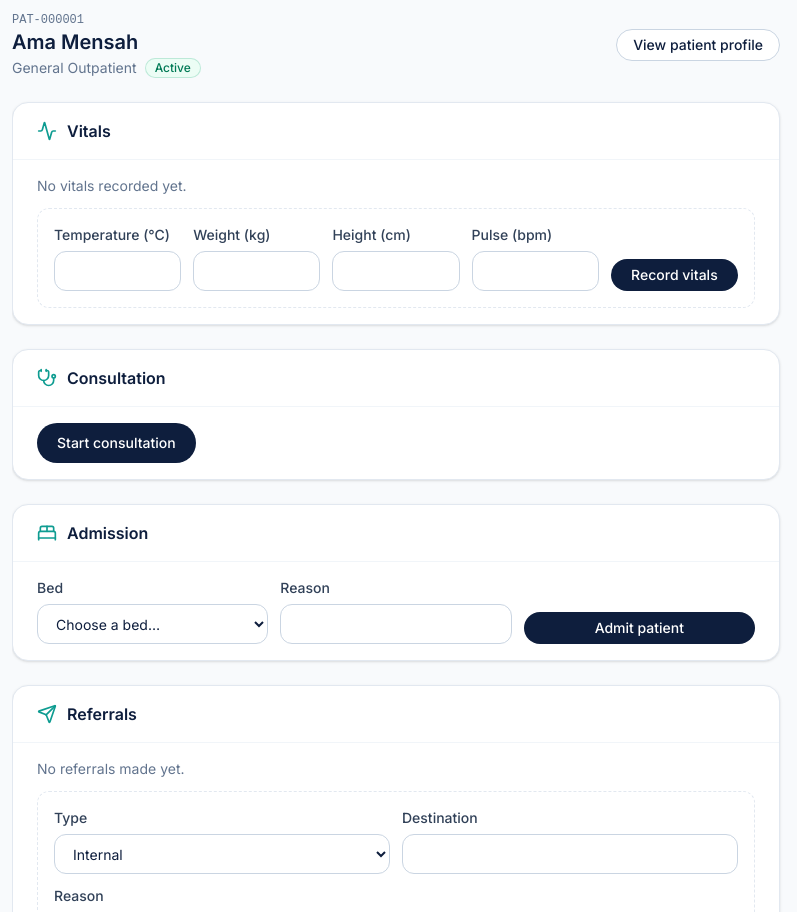
Test case: VisitWorkspace › records temperature with the vitals and shows it in the reading
Type "39.1" into the field labelled "Temperature (°C)".
click(118, 271); type("39.1")  # box [54,251,181,291]
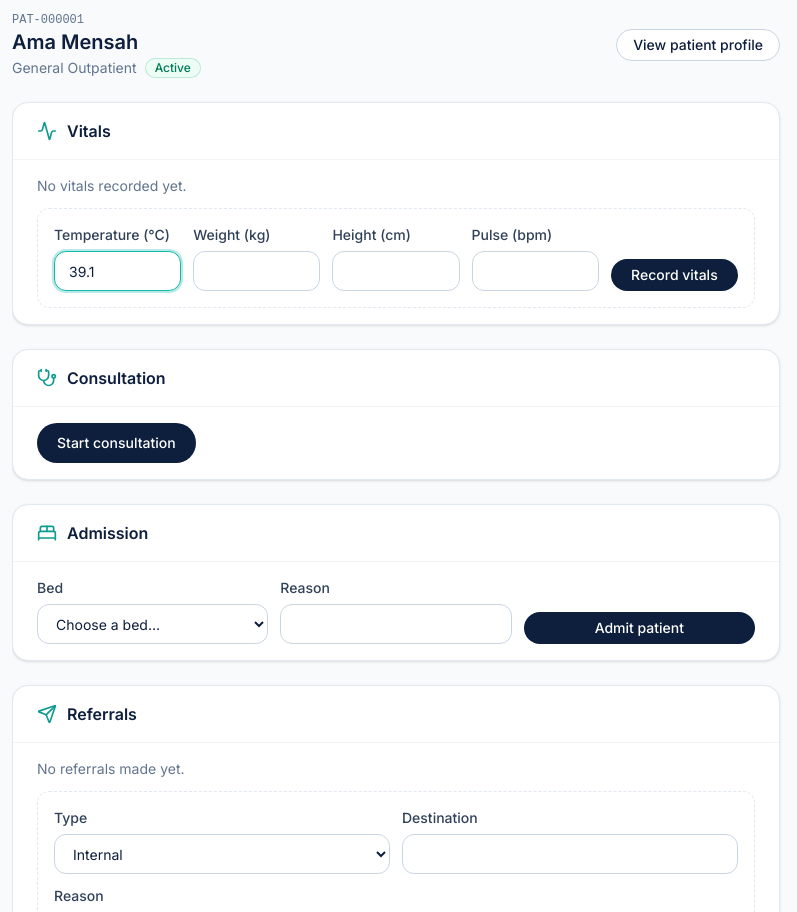
Type "98" into the field labelled "Pulse (bpm)".
click(535, 271); type("98")  # box [472,251,599,291]
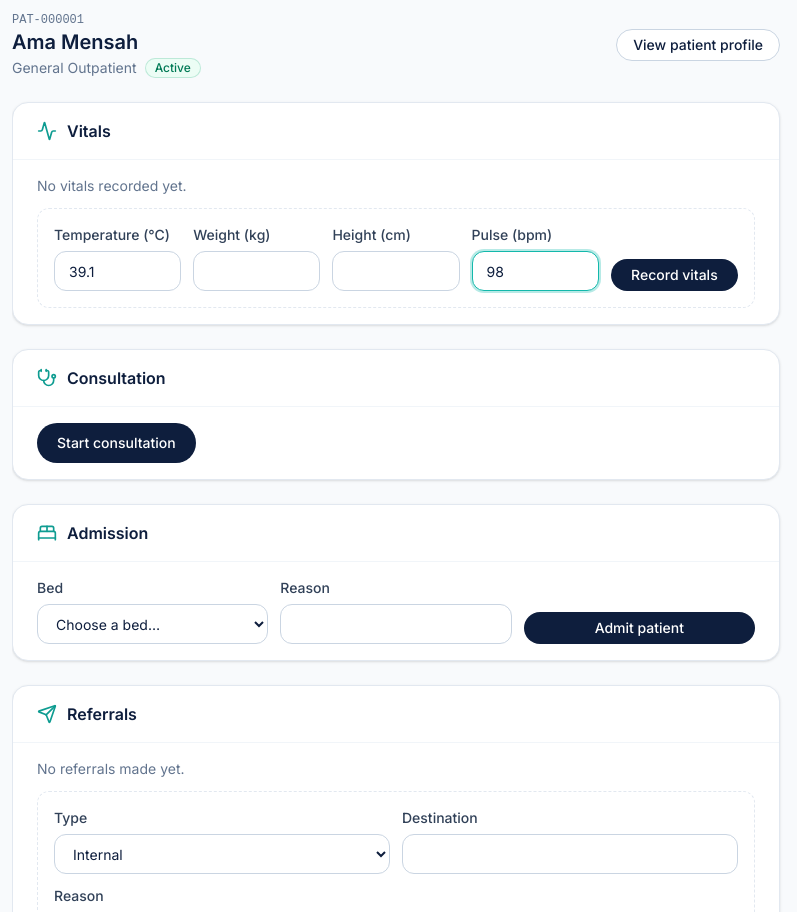
Click the button "Record vitals".
click(674, 275)  # box [611,259,738,291]
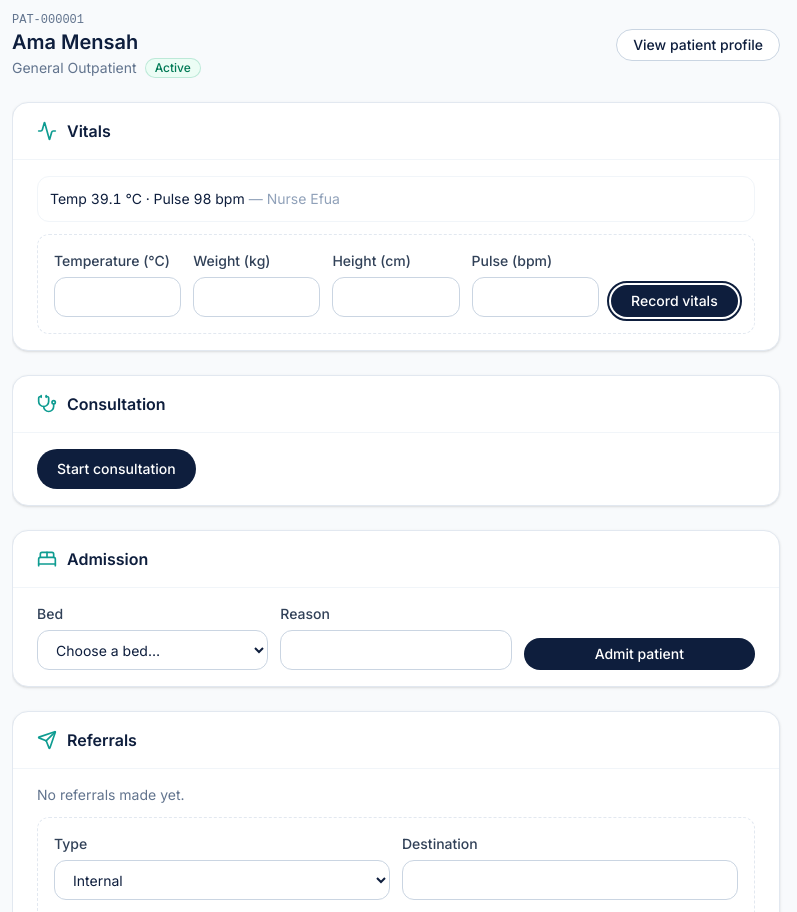
Expected: the text "Temp 39.1 °C · Pulse 98 bpm" is shown, [50,190,245,207]
